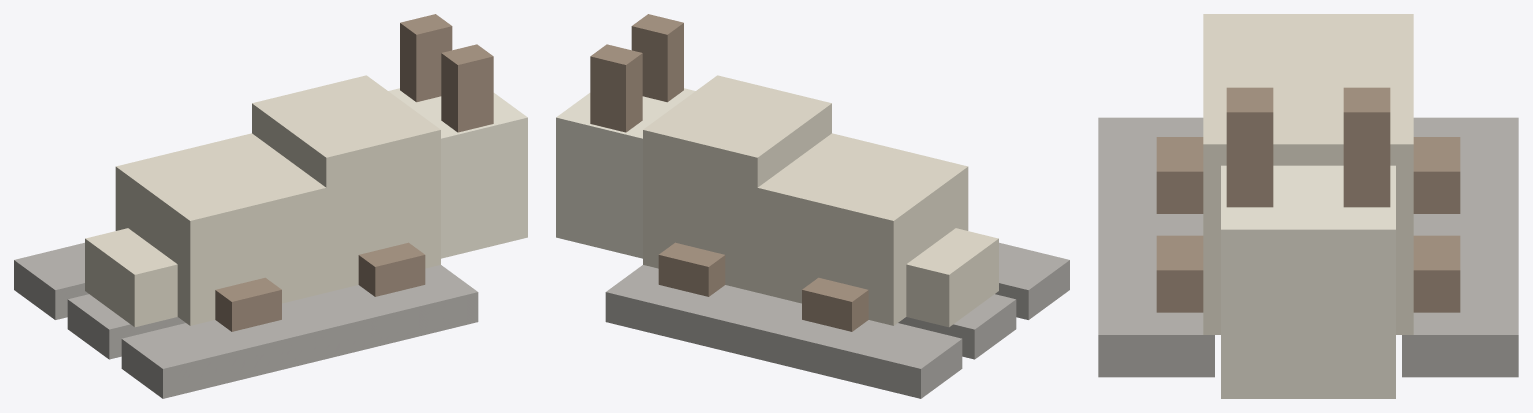
The model's file is 36-Fauna_cabra.glb.
3 renders of one model, left to right at view 1: azimuth 30°, elevation 25°; view 2: azimuth 150°, elevation 25°; view 3: azimuth 270°, elevation 25°, orthographic. The views are drawn at different scales.
Parts seen in each view (by area): view 1: SM_Cabra_Cuerpo_NOFUNDIR, SM_Cabra_Rodela_NOFUNDIR, SM_Cabra_CuernosPatas_NOFUNDIR, SM_Cabra_Cabeza_NOFUNDIR; view 2: SM_Cabra_Cuerpo_NOFUNDIR, SM_Cabra_Rodela_NOFUNDIR, SM_Cabra_CuernosPatas_NOFUNDIR, SM_Cabra_Cabeza_NOFUNDIR; view 3: SM_Cabra_Rodela_NOFUNDIR, SM_Cabra_Cabeza_NOFUNDIR, SM_Cabra_Cuerpo_NOFUNDIR, SM_Cabra_CuernosPatas_NOFUNDIR.
Part boxes in pixels (left/top/right/bottom): SM_Cabra_Cuerpo_NOFUNDIR: left=85, top=75, right=440, bottom=327; SM_Cabra_Rodela_NOFUNDIR: left=14, top=242, right=478, bottom=398; SM_Cabra_CuernosPatas_NOFUNDIR: left=215, top=14, right=493, bottom=331; SM_Cabra_Cabeza_NOFUNDIR: left=388, top=88, right=527, bottom=258; SM_Cabra_Cuerpo_NOFUNDIR: left=643, top=75, right=998, bottom=327; SM_Cabra_Rodela_NOFUNDIR: left=605, top=242, right=1069, bottom=398; SM_Cabra_CuernosPatas_NOFUNDIR: left=590, top=14, right=868, bottom=331; SM_Cabra_Cabeza_NOFUNDIR: left=556, top=88, right=695, bottom=258; SM_Cabra_Rodela_NOFUNDIR: left=1098, top=117, right=1518, bottom=377; SM_Cabra_Cabeza_NOFUNDIR: left=1221, top=165, right=1395, bottom=398; SM_Cabra_Cuerpo_NOFUNDIR: left=1203, top=14, right=1413, bottom=334; SM_Cabra_CuernosPatas_NOFUNDIR: left=1156, top=87, right=1460, bottom=312.
Bounding box in the file's own units: 0.57 × 0.29 × 0.36.
